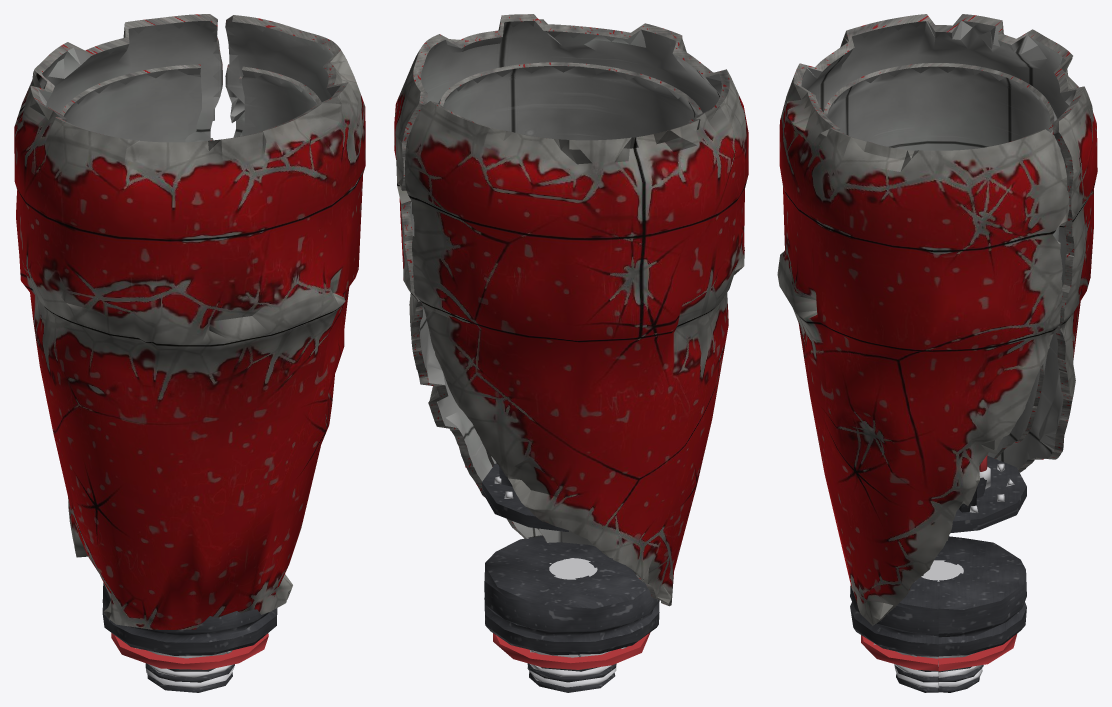
File: baymax_forearm_shell_lod1.glb
3 renders of one model, left to right at view 1: azimuth 30°, elevation 25°; view 2: azimuth 150°, elevation 25°; view 3: azimuth 270°, elevation 25°, orthographic.
Parts seen in each view (by area): view 1: baymax_forearm_shell; view 2: baymax_forearm_shell; view 3: baymax_forearm_shell.
Part boxes in pixels (x1,y1,x2,y2): baymax_forearm_shell: (14, 14, 365, 692); baymax_forearm_shell: (394, 14, 748, 692); baymax_forearm_shell: (777, 14, 1097, 692).
Bounding box in the file's own units: 0.5738 × 1.05 × 0.51.
7 materials, 4 textured.
